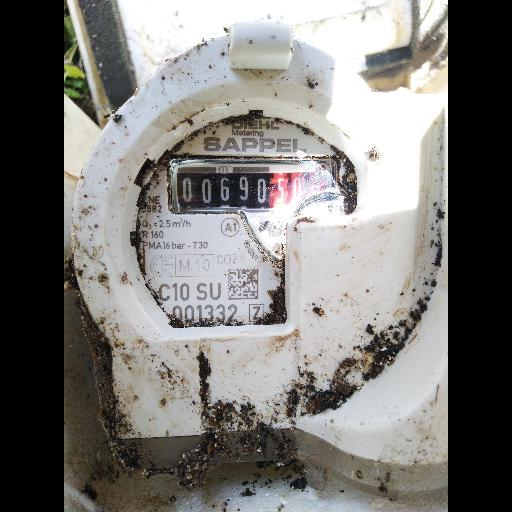0: (177, 172, 200, 208), (251, 174, 270, 209), (198, 173, 216, 208), (290, 173, 308, 204)
2: (306, 166, 326, 200)
5: (268, 172, 290, 208)
6: (215, 173, 235, 208)
9: (233, 171, 253, 209)
border_water_meter_number: (167, 160, 339, 217)
